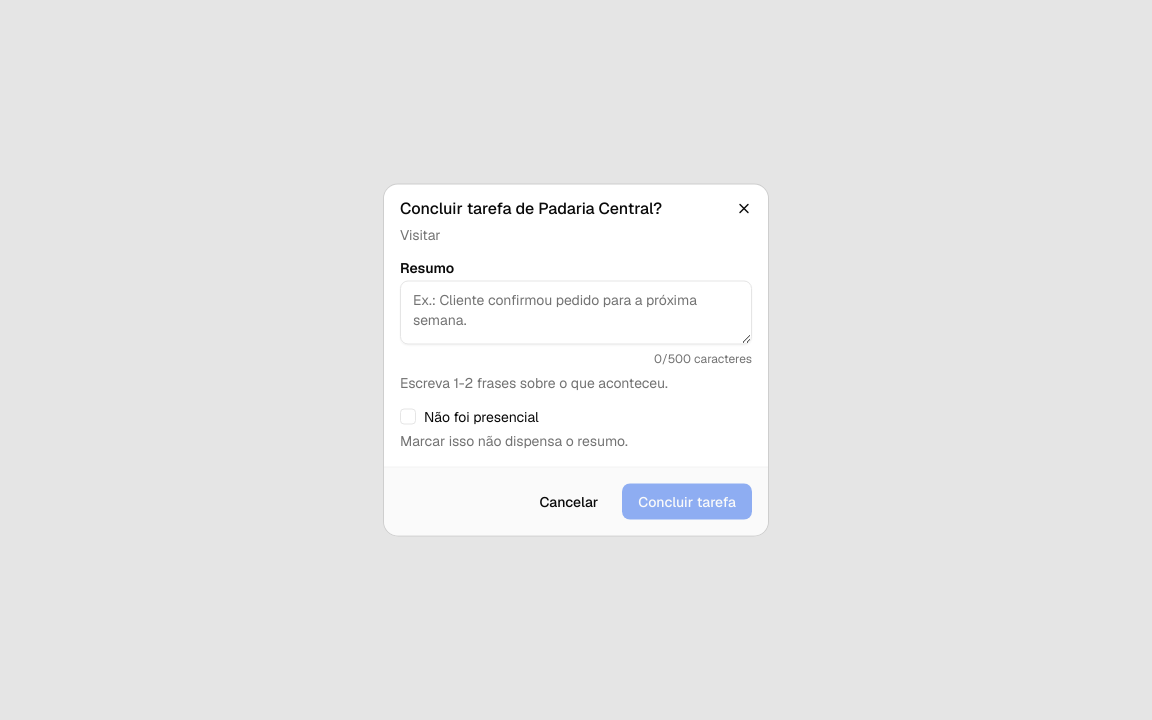
Scenario: ConcluirItemDialog (CONC-01/VIS-03) › limpa: clicar em Cancelar limpa o resumo digitado
Type "Cliente confirmou pedido para a próxima semana." into the text box. click: {"x": 576, "y": 312}
box: left=400, top=280, right=752, bottom=344
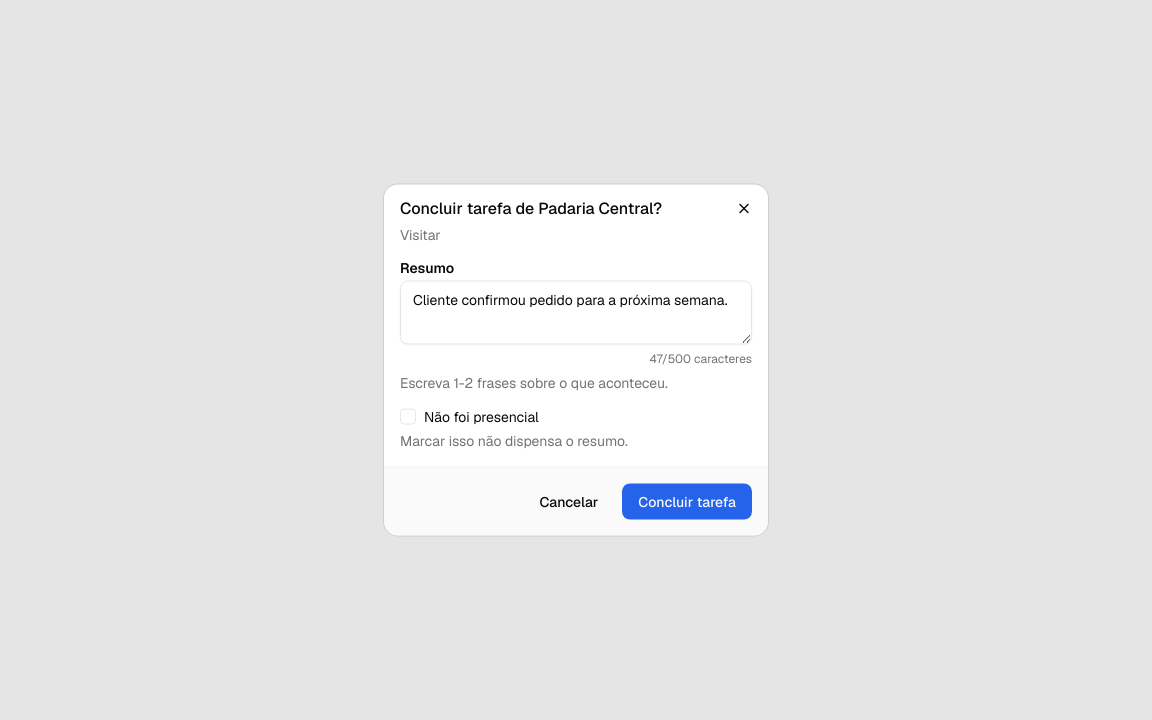
Click the button "Cancelar". click: {"x": 569, "y": 502}
box: left=523, top=484, right=614, bottom=520
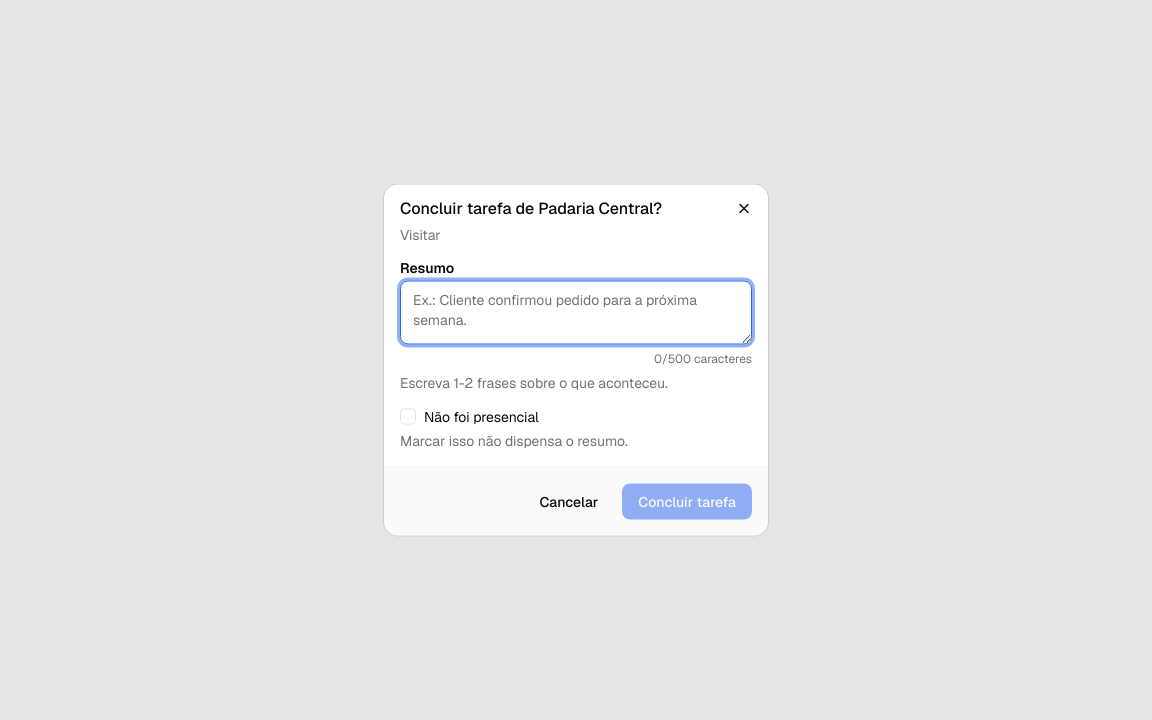
Result: the text box is empty at left=400, top=280, right=752, bottom=344
